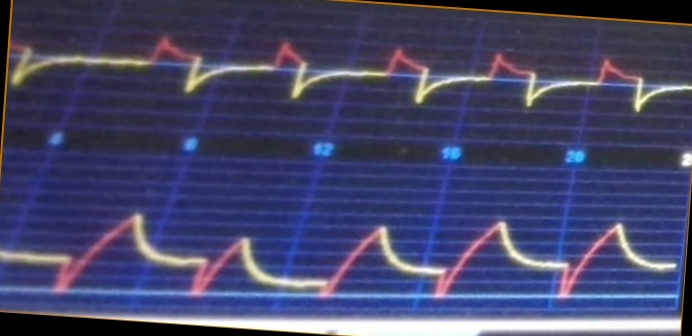Flow: (11, 28, 692, 122)
Leakage Volume: (2, 204, 676, 306)
